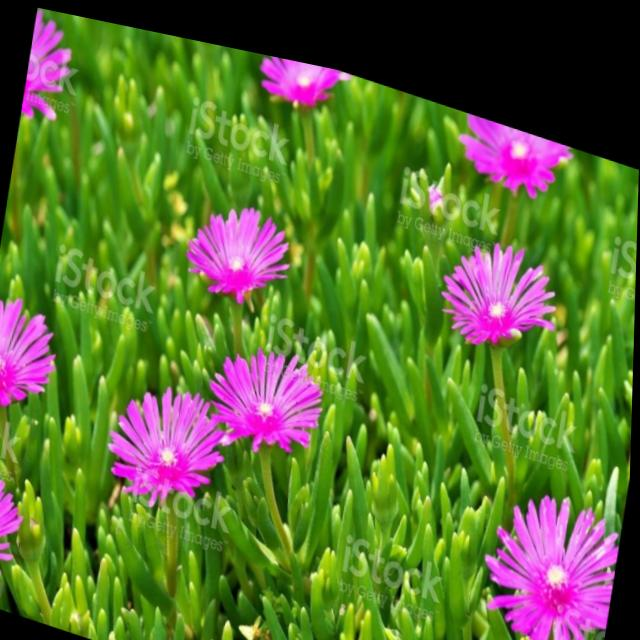Flower: (475, 447, 623, 640), (433, 196, 569, 349), (97, 357, 232, 508), (204, 321, 334, 460), (182, 172, 301, 310), (457, 95, 579, 188), (0, 289, 65, 450), (22, 7, 74, 128), (255, 42, 347, 108), (0, 461, 29, 611)
